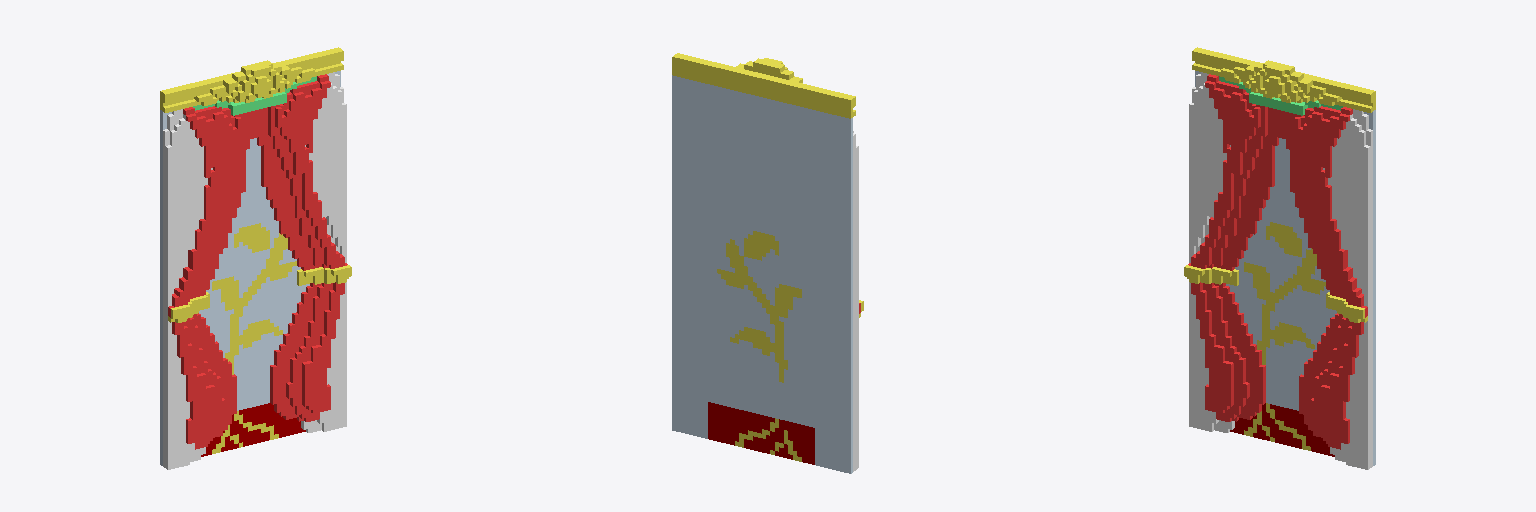
3 views of the same model, side by side, from view 1: azimuth 30°, elevation 25°; view 2: azimuth 150°, elevation 25°; view 3: azimuth 330°, elevation 25° (orthographic).
Parts seen in each view (by area): view 1: object 1; view 2: object 1; view 3: object 1.
Boxes of the visible parts, <box> form: object 1: <box>160,47,351,469</box>; object 1: <box>672,53,863,473</box>; object 1: <box>1184,47,1375,469</box>.
Size of the model in its own units: 4 by 8.2 by 0.5.
1 materials, 1 textured.